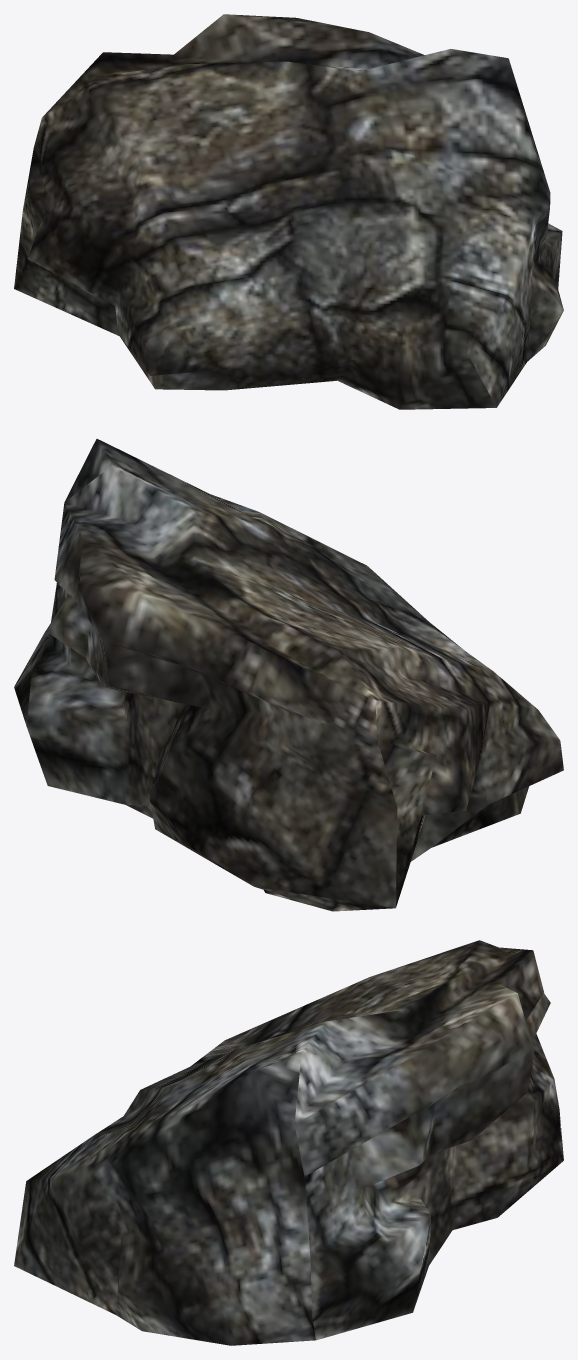
Rendered from Rock10.fbx.
3 views of the same model, one above another, from view 1: azimuth 30°, elevation 25°; view 2: azimuth 150°, elevation 25°; view 3: azimuth 270°, elevation 25° (orthographic). The views are drawn at different scales.
Parts seen in each view (by area): view 1: Rock8A_250_tris_Group39111; view 2: Rock8A_250_tris_Group39111; view 3: Rock8A_250_tris_Group39111.
Part boxes in pixels (bbox=[...]): Rock8A_250_tris_Group39111: bbox=[14, 14, 563, 409]; Rock8A_250_tris_Group39111: bbox=[14, 439, 563, 911]; Rock8A_250_tris_Group39111: bbox=[14, 940, 563, 1345].
Bounding box in the file's own units: 12.06 × 6.47 × 11.85.
